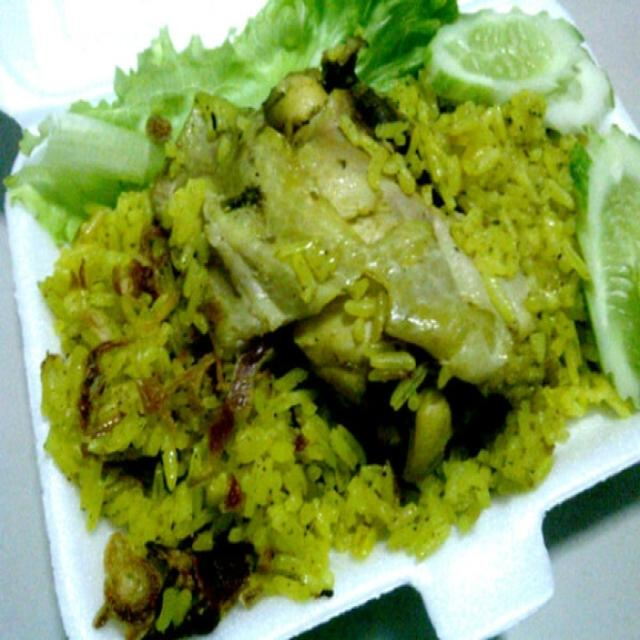米饭主食: (13, 11, 621, 626)
